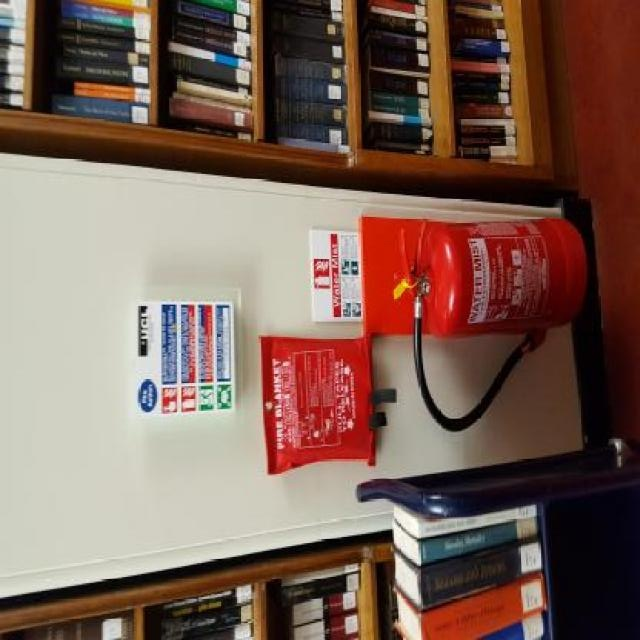fire extinguisher: (397, 207, 585, 433)
